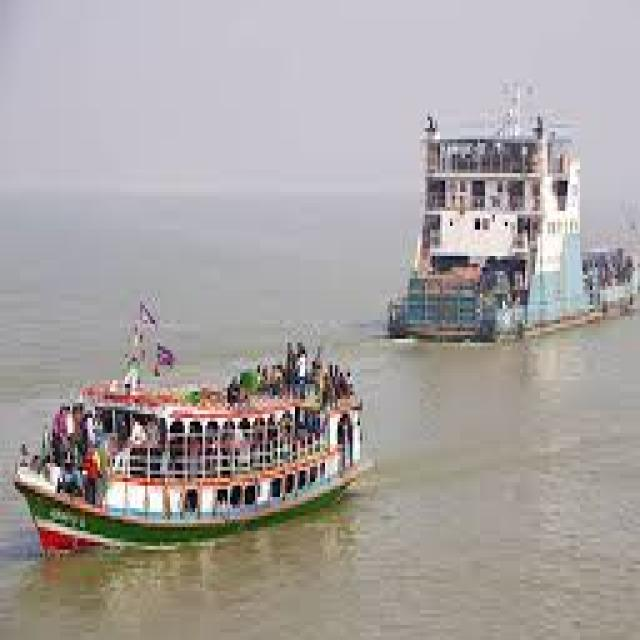passenger ship: (17, 284, 373, 558), (400, 83, 640, 339)
